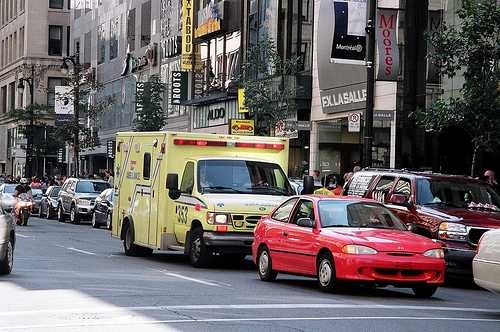Police Van: (87, 131, 286, 256)
